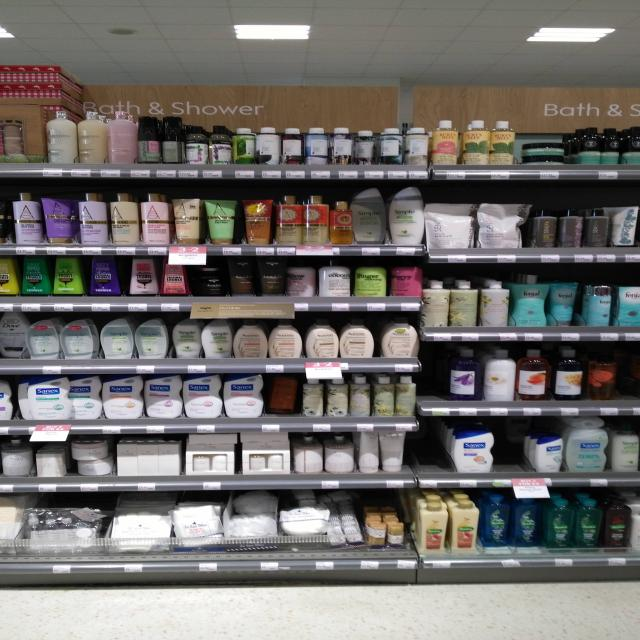unorganised: (352, 180, 386, 245), (32, 374, 73, 421), (263, 373, 299, 414)
